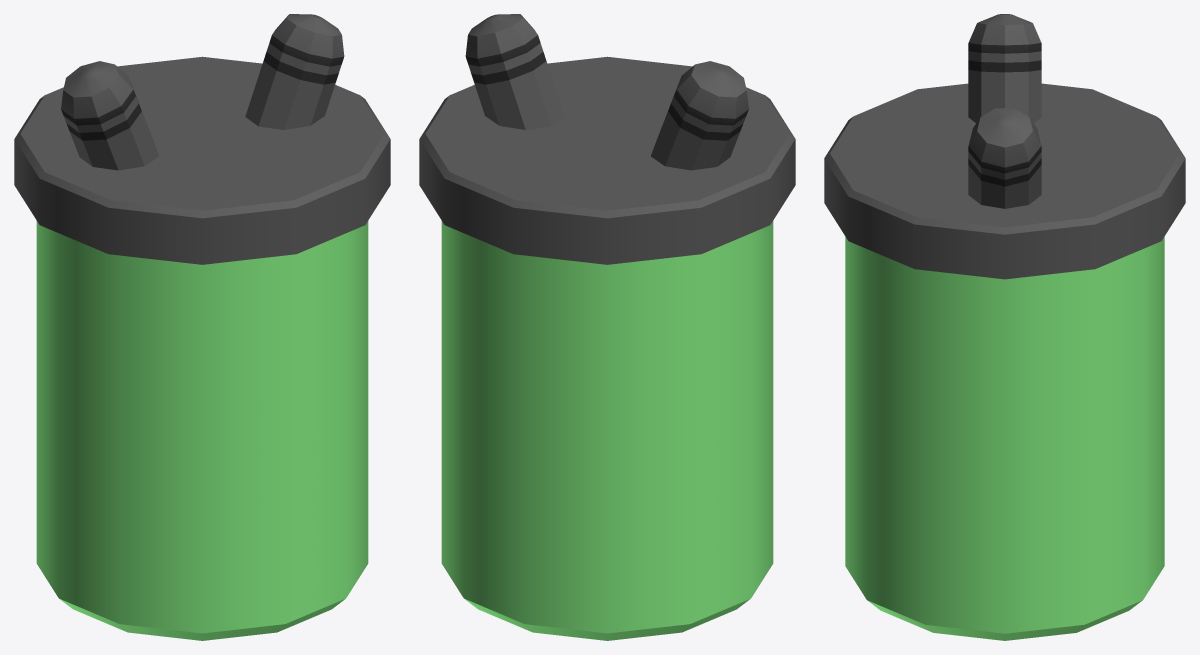
Rendered from EyesJar_03.fbx.
3 renders of one model, left to right at view 1: azimuth 30°, elevation 25°; view 2: azimuth 150°, elevation 25°; view 3: azimuth 270°, elevation 25°, orthographic. The views are drawn at different scales.
Visible parts, largest first — view 1: EyesJar_01; view 2: EyesJar_01; view 3: EyesJar_01.
Boxes of the visible parts, box(x1,y1,x2,y2) form: EyesJar_01: box(14, 14, 390, 640); EyesJar_01: box(419, 14, 795, 640); EyesJar_01: box(824, 14, 1185, 640).
Bounding box in the file's own units: 173 × 272 × 173.
